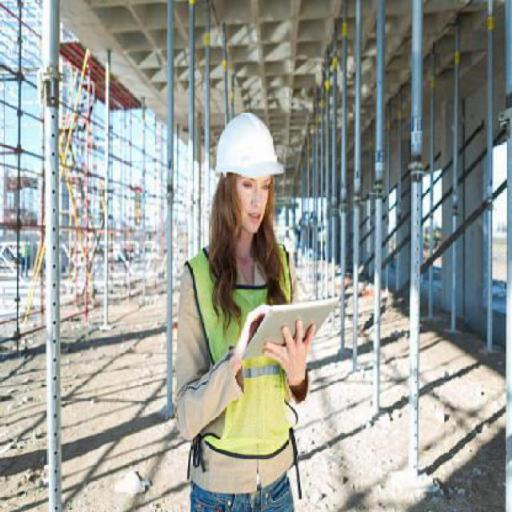hardhat: (212, 104, 293, 184)
person: (162, 95, 328, 511)
vest: (174, 240, 298, 458)
